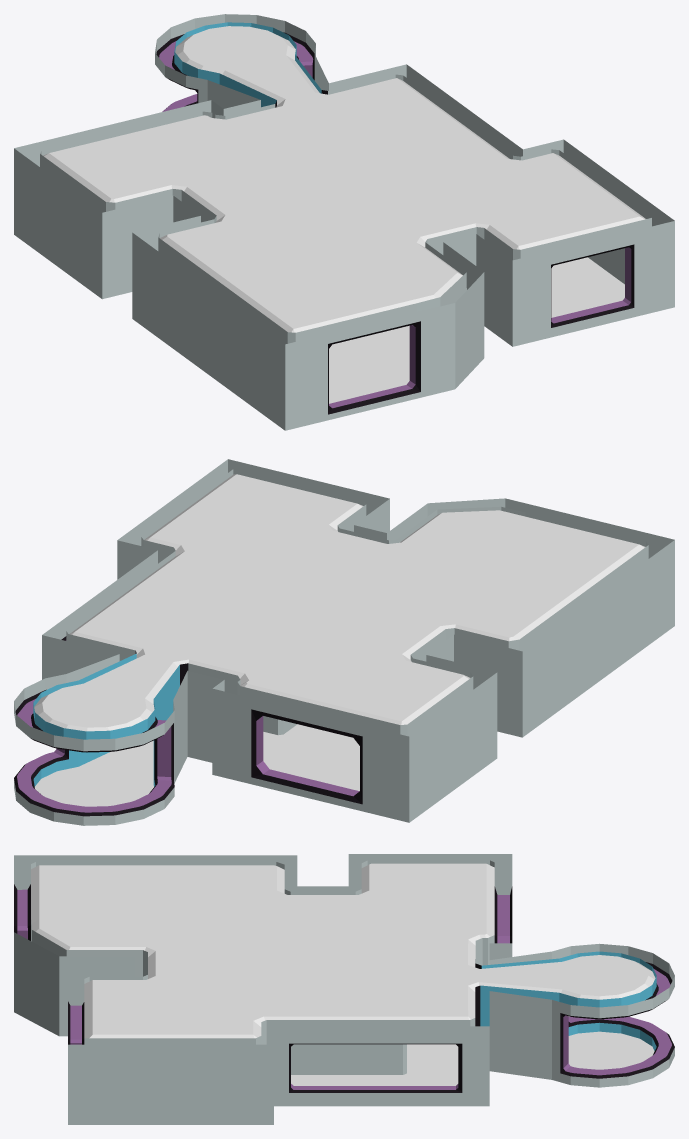
File: escenario.fbx
The picture shows the model from 3 angles, top to bottom: view 1: azimuth 30°, elevation 25°; view 2: azimuth 150°, elevation 25°; view 3: azimuth 270°, elevation 25°; orthographic projection. The views are drawn at different scales.
Parts seen in each view (by area): view 1: ceiling, walls, floor; view 2: ceiling, walls, floor; view 3: ceiling, walls, floor.
Boxes of the visible parts, left/top/right/bottom form: ceiling: left=43, top=26, right=645, bottom=332; walls: left=14, top=14, right=674, bottom=430; floor: left=329, top=257, right=624, bottom=403; ceiling: left=34, top=474, right=645, bottom=731; walls: left=14, top=459, right=674, bottom=825; floor: left=34, top=724, right=359, bottom=806; ceiling: left=31, top=863, right=655, bottom=1038; walls: left=14, top=854, right=674, bottom=1124; floor: left=291, top=1031, right=654, bottom=1085.
Size of the model in its own units: 2847 by 558 by 4173.
